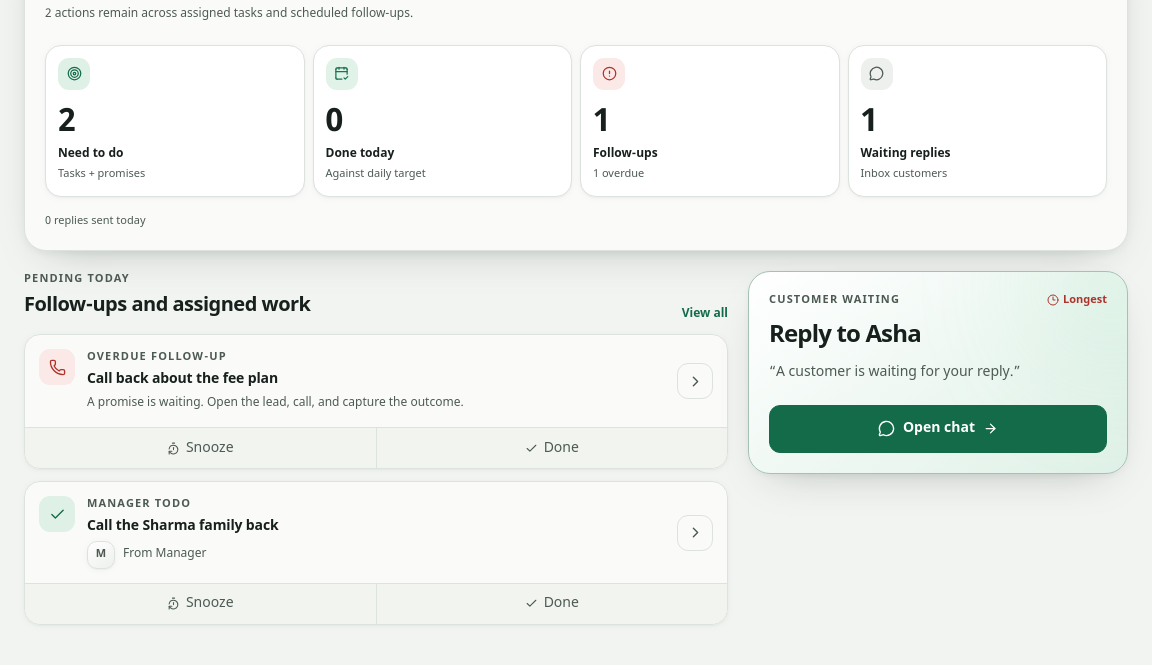
Scenario: Today manager-todo Done › leaves the card cleared when the write lands
(page scrolled)
Click the button "Done" below "From" at x=551, y=604, box x1=376 y1=584 x2=727 y2=624
(page scrolled)
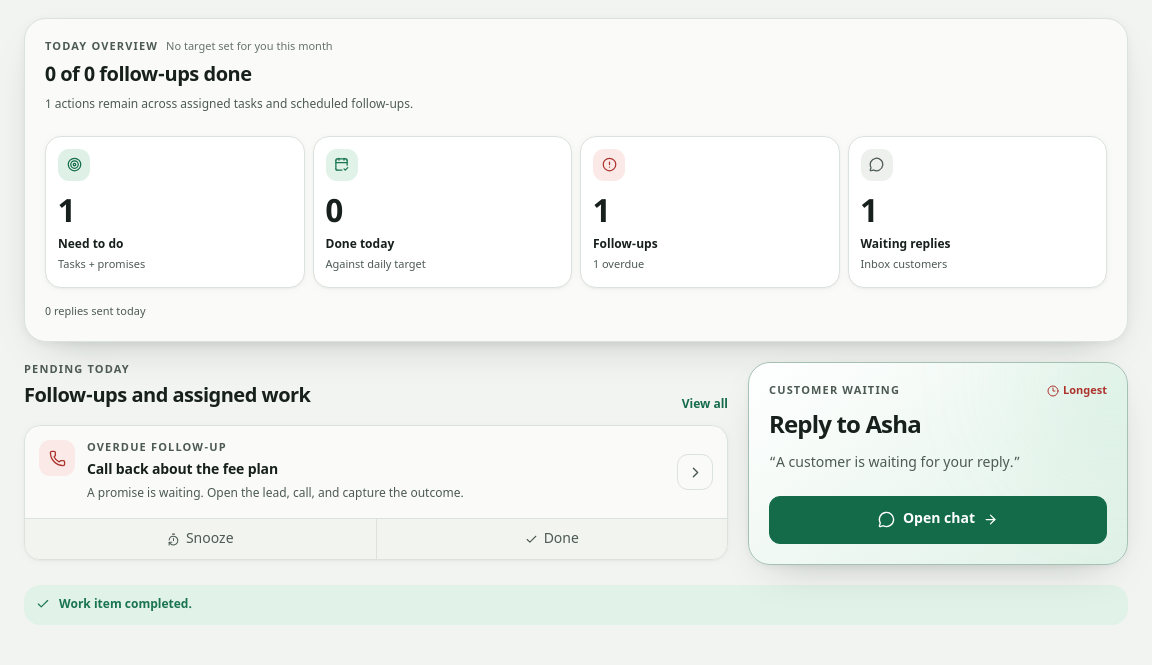
Now the heading "Call the Sharma family back" is gone
